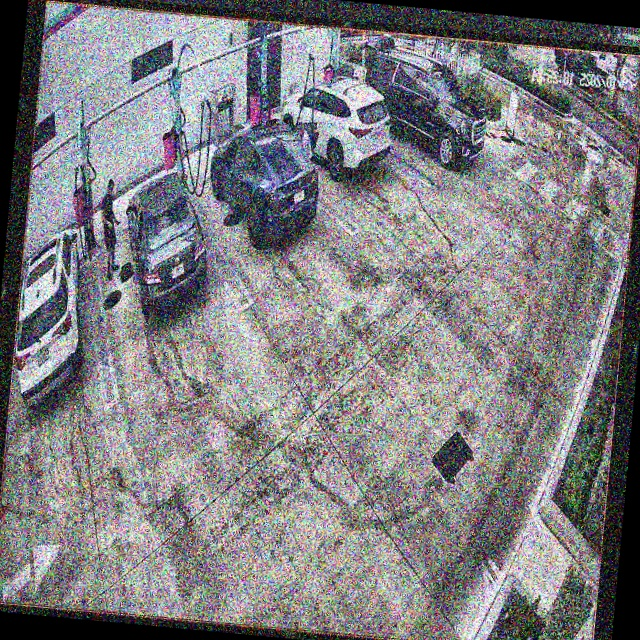Car: (204, 113, 325, 252), (359, 49, 492, 171), (118, 168, 214, 321), (276, 70, 396, 187)
